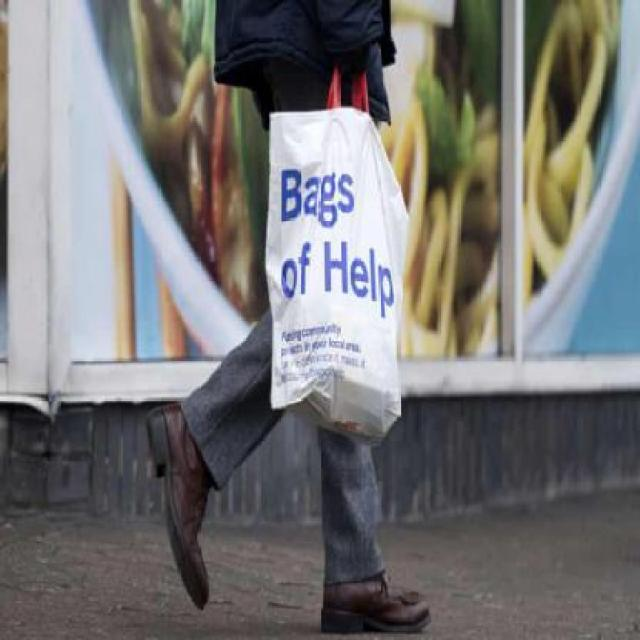plastic bag: (258, 73, 422, 444)
